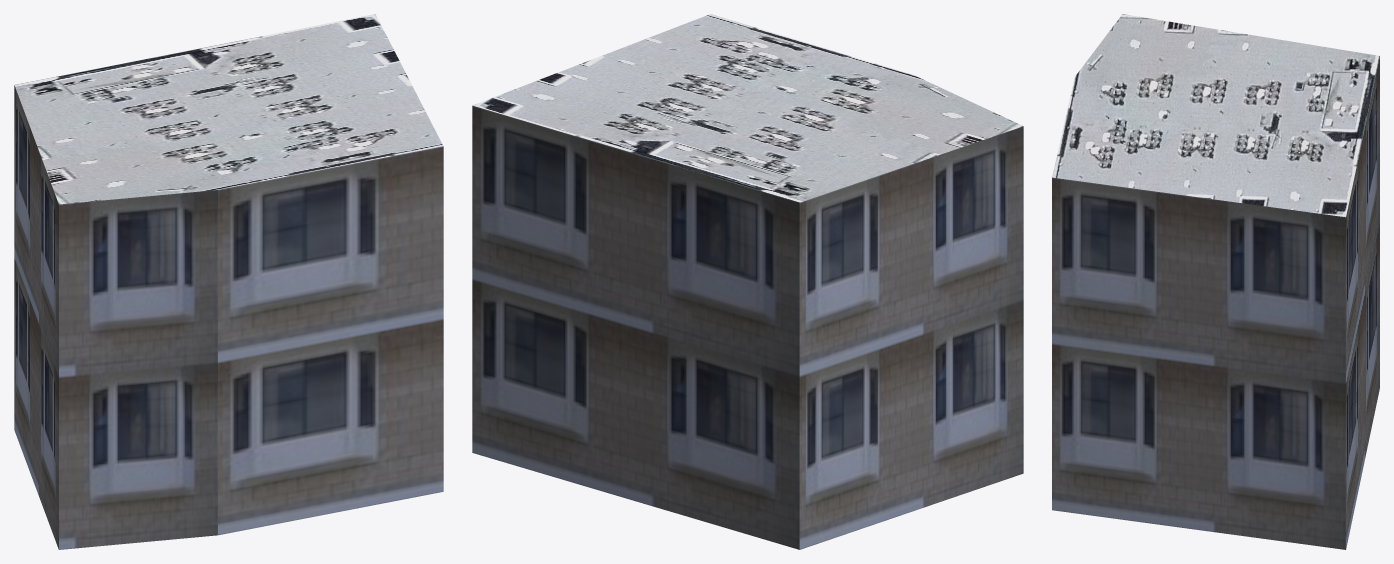
The model's file is ResTex__3978.fbx.
The picture shows the model from 3 angles, left to right: view 1: azimuth 30°, elevation 25°; view 2: azimuth 150°, elevation 25°; view 3: azimuth 270°, elevation 25°; orthographic projection. The views are drawn at different scales.
Parts seen in each view (by area): view 1: CityEngineMaterial_3_m, CityEngineMaterial_4_m; view 2: CityEngineMaterial_3_m, CityEngineMaterial_4_m; view 3: CityEngineMaterial_3_m, CityEngineMaterial_4_m.
Boxes of the visible parts, x1,y1,x2,y2 form: CityEngineMaterial_3_m: (14, 85, 443, 549); CityEngineMaterial_4_m: (14, 14, 442, 204); CityEngineMaterial_3_m: (472, 105, 1023, 549); CityEngineMaterial_4_m: (472, 14, 1023, 202); CityEngineMaterial_3_m: (1052, 56, 1379, 549); CityEngineMaterial_4_m: (1052, 14, 1379, 217).
Bounding box in the file's own units: 7.86 × 6 × 5.36.
2 materials, 2 textured.
